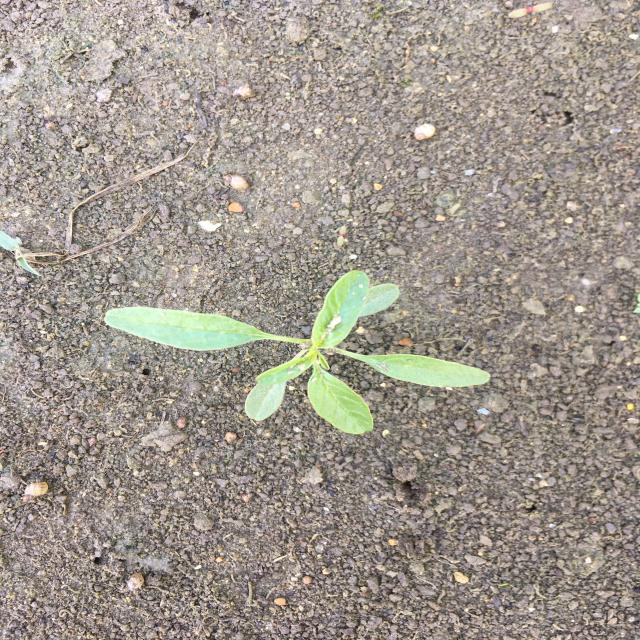Waterhemp: (102, 268, 494, 437)
